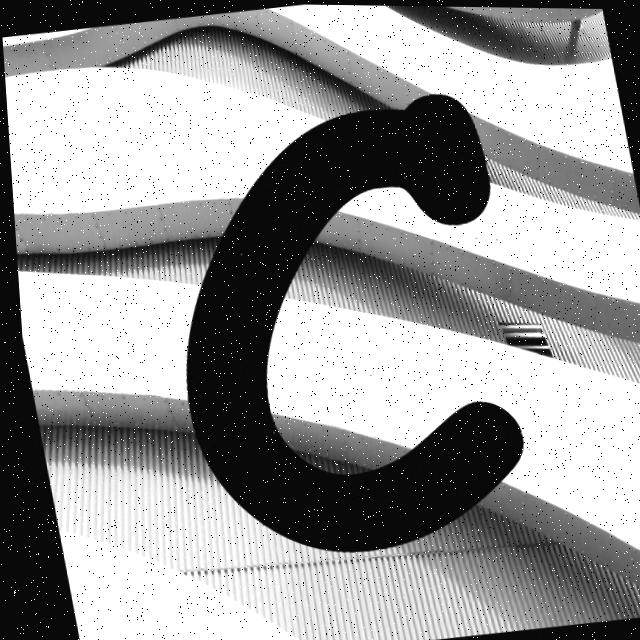C: (181, 93, 517, 551)
